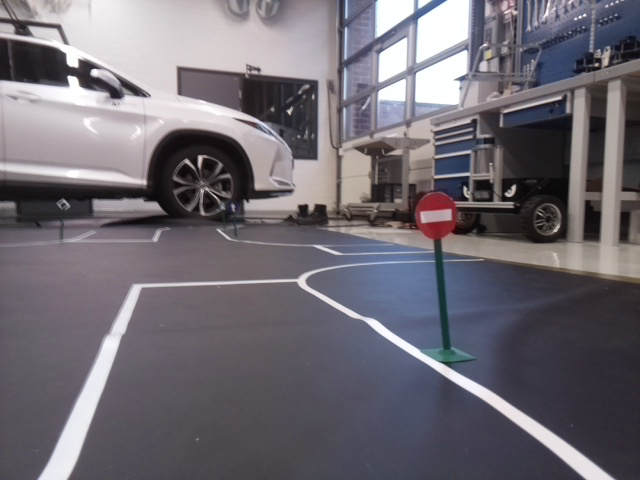NoEntry: (415, 194, 454, 240)
OneWay: (226, 200, 239, 214)
